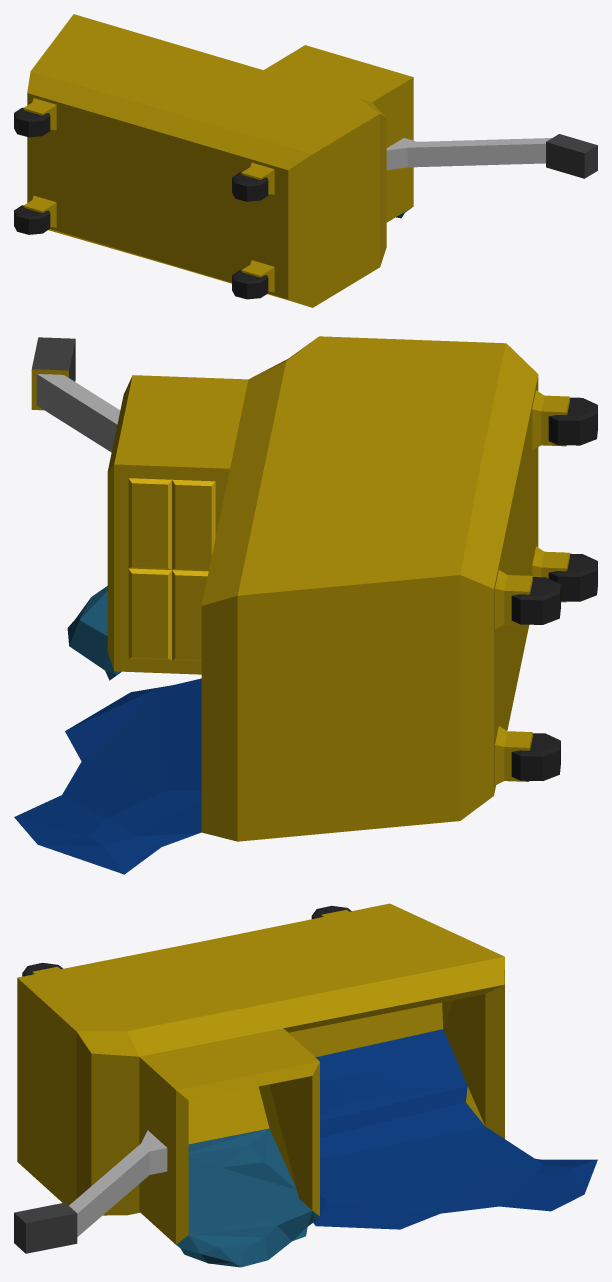
The model's file is MopBucketV1Spilled.fbx.
The picture shows the model from 3 angles, top to bottom: view 1: azimuth 30°, elevation 25°; view 2: azimuth 150°, elevation 25°; view 3: azimuth 270°, elevation 25°; orthographic projection. The views are drawn at different scales.
Visible parts, largest first — view 1: MopBucketV1Spilled; view 2: MopBucketV1Spilled; view 3: MopBucketV1Spilled.
Part boxes in pixels (left/top/right/bottom): MopBucketV1Spilled: left=14, top=14, right=597, bottom=307; MopBucketV1Spilled: left=14, top=336, right=597, bottom=874; MopBucketV1Spilled: left=14, top=903, right=597, bottom=1267.
Size of the model in its own units: 86.34 by 27.99 by 80.36.
